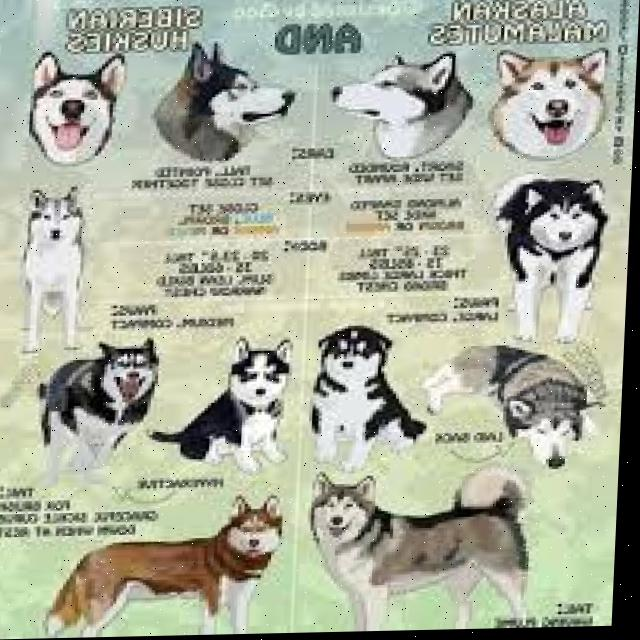ALASKAN_MALAMUTE: (304, 467, 559, 634), (491, 165, 619, 348), (482, 51, 606, 167)
